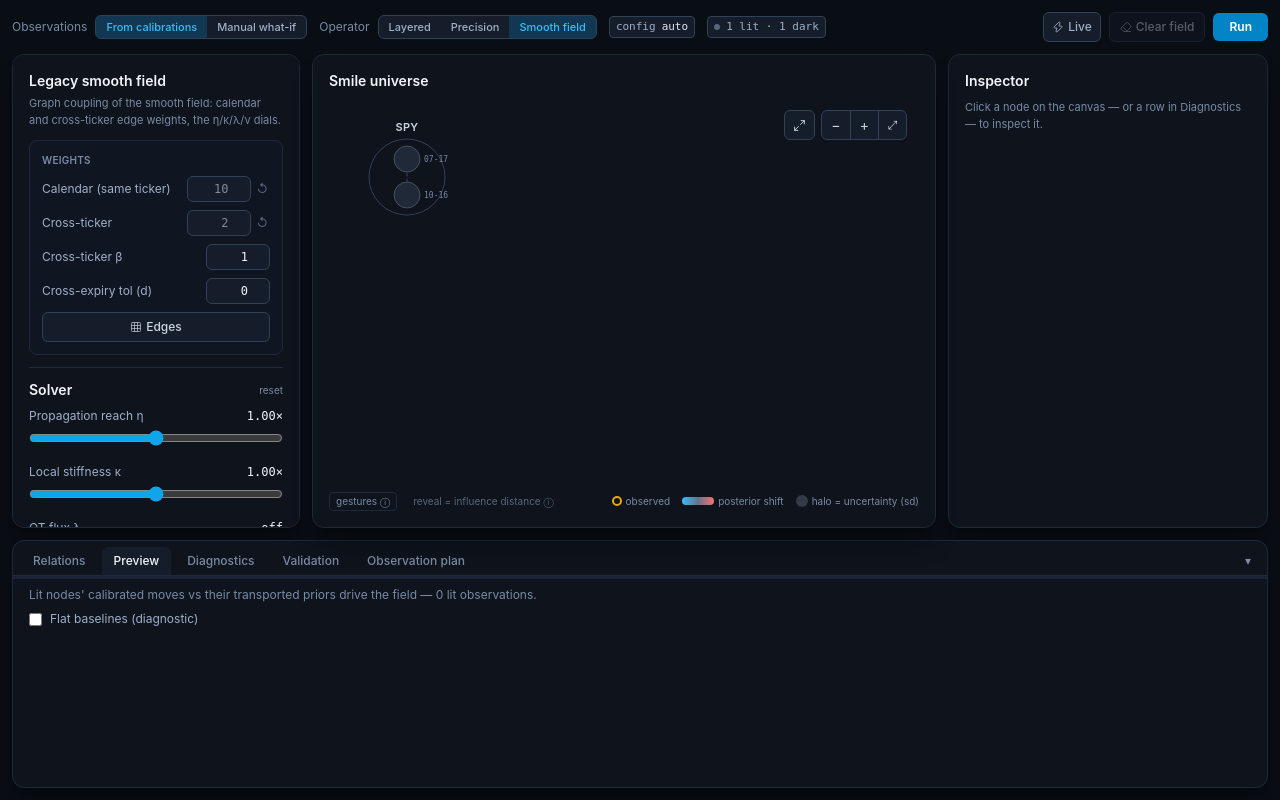
Graph shell (U0) › disables Run in manual mode with no pulses
Click the button "Manual what-if": (257, 27) [207, 16, 306, 38]
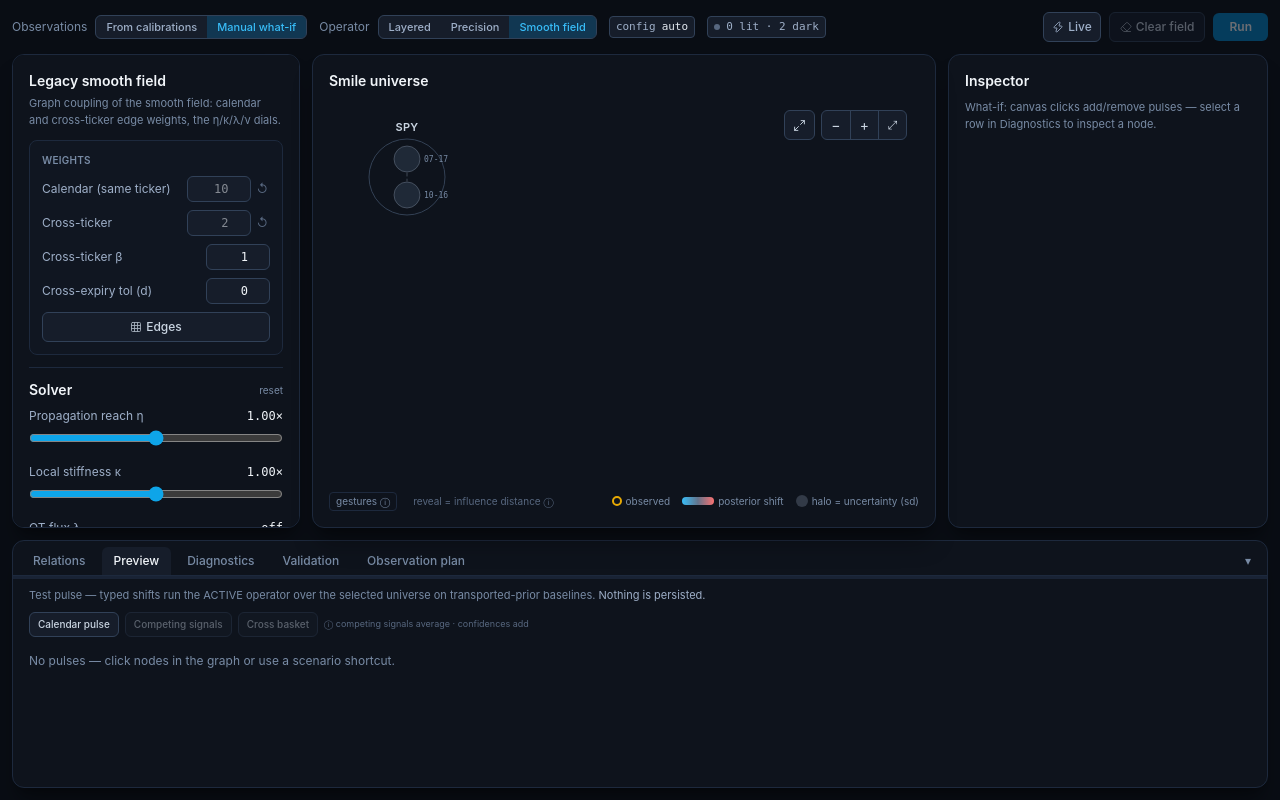
Expected: the text "No pulses" is shown, [29, 652, 395, 668]
Expected: the button "Run" is disabled, [1214, 13, 1268, 41]
